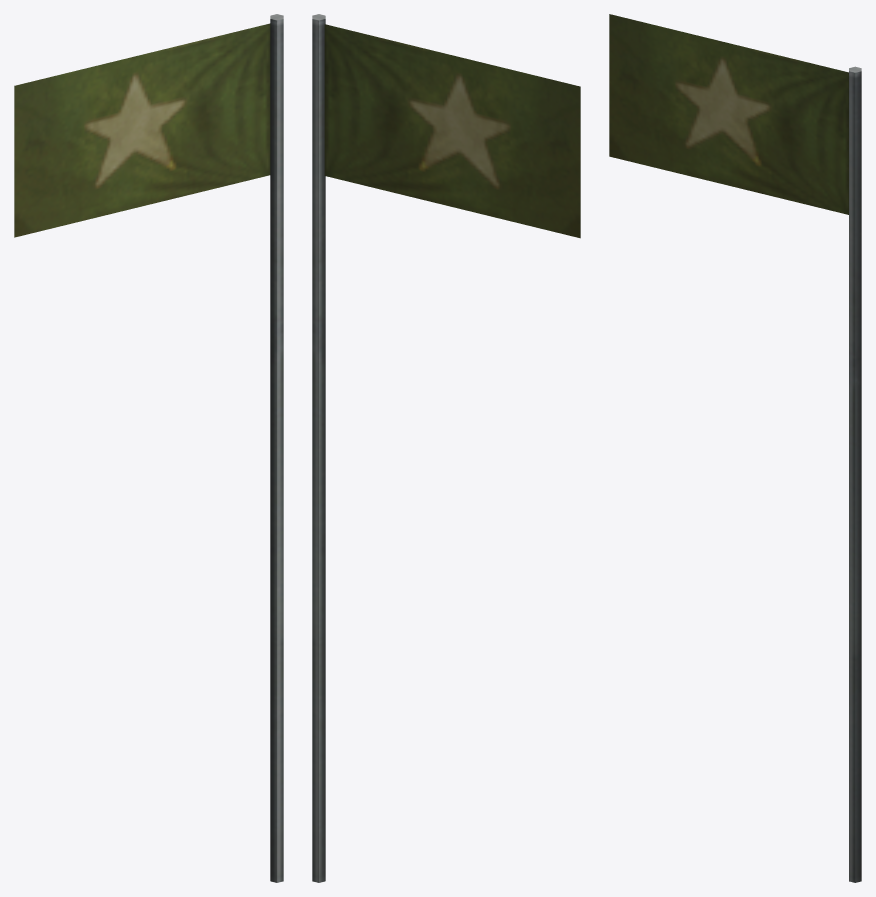
Rendered from FX_qizi.FBX.
3 views of the same model, side by side, from view 1: azimuth 30°, elevation 25°; view 2: azimuth 150°, elevation 25°; view 3: azimuth 330°, elevation 25° (orthographic). The views are drawn at different scales.
Visible parts, largest first — view 1: FX_qizi, FX_qigan; view 2: FX_qizi, FX_qigan; view 3: FX_qizi, FX_qigan.
Boxes of the visible parts, x1=… form: FX_qizi: x1=14, y1=23, x2=270, y2=237; FX_qigan: x1=270, y1=14, x2=283, y2=882; FX_qizi: x1=324, y1=24, x2=580, y2=238; FX_qigan: x1=312, y1=14, x2=325, y2=882; FX_qizi: x1=609, y1=14, x2=848, y2=214; FX_qigan: x1=849, y1=66, x2=861, y2=882.
Bounding box in the file's own units: 11.19 × 34.29 × 0.4809.
